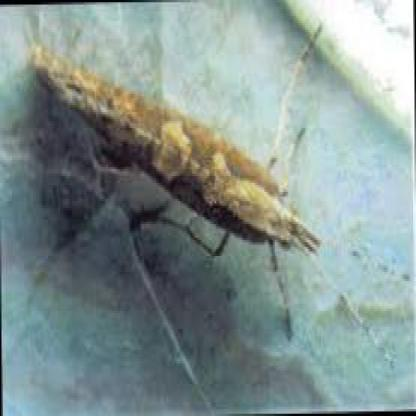plutella: (27, 6, 331, 342)
